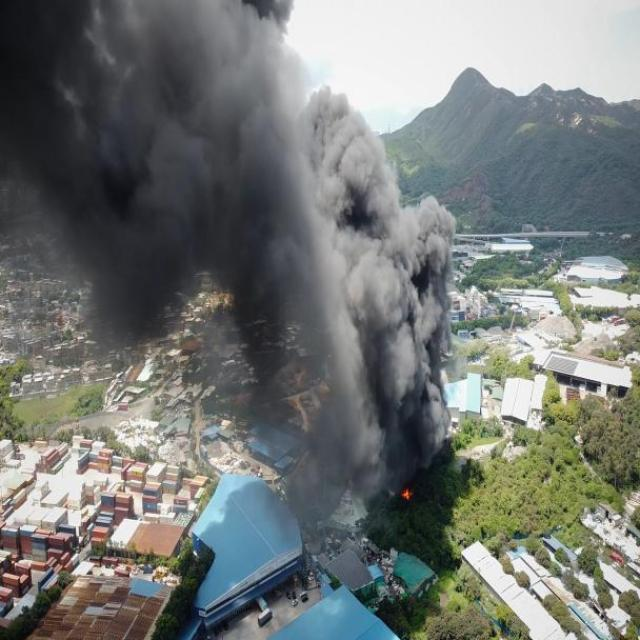Smoke: (244, 114, 419, 446)
